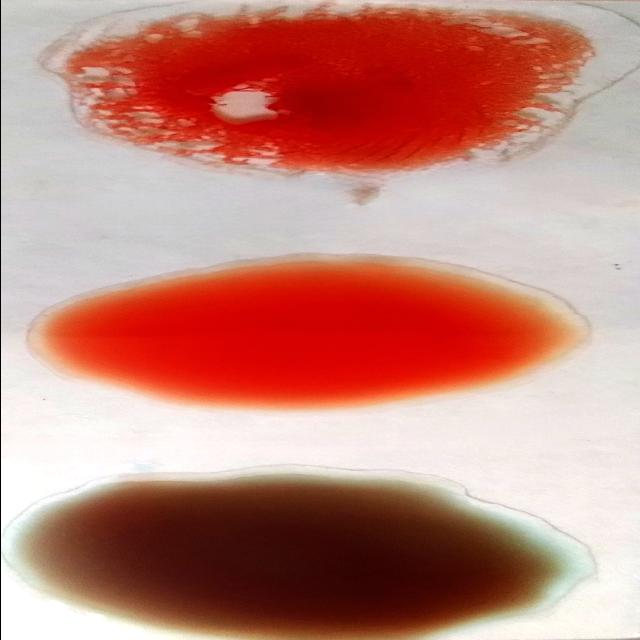D: (39, 4, 619, 174)
